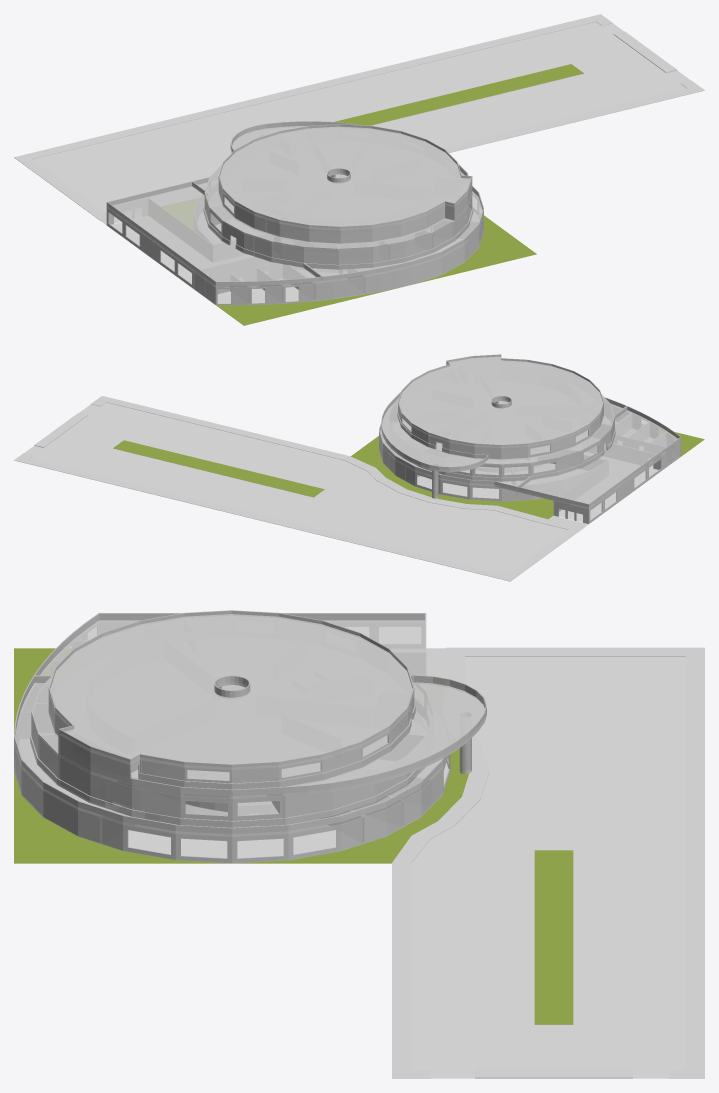
The model's file is MuseumFinal.gltf.
3 views of the same model, one above another, from view 1: azimuth 30°, elevation 25°; view 2: azimuth 150°, elevation 25°; view 3: azimuth 270°, elevation 25° (orthographic). The views are drawn at different scales.
Parts seen in each view (by area): view 1: Node1128, Node619, Node612, Node197, Node1163, Node1118, Node1161, Node795, Node1625, Node1120, Node1555, Node432 (+15 smaller); view 2: Node1128, Node619, Node612, Node1163, Node197, Node1118, Node1162, Node1027, Node1625, Node795, Node196, Node1195 (+13 smaller); view 3: Node1128, Node619, Node612, Node1163, Node1118, Node1027, Node1161, Node1162, Node197, Node1336, Node852, Node432 (+30 smaller).
Part boxes in pixels (x1,y1,x2,y2): Node1128: (32, 22, 691, 212); Node619: (220, 126, 470, 226); Node612: (221, 128, 460, 229); Node197: (112, 186, 315, 281); Node1163: (14, 14, 704, 220); Node1118: (334, 64, 583, 125); Node1161: (413, 213, 536, 284); Node795: (206, 168, 453, 248); Node1625: (111, 216, 251, 283); Node1120: (216, 287, 402, 325); Node1555: (149, 200, 212, 261); Node432: (198, 180, 482, 276); Node1128: (25, 402, 567, 574); Node619: (399, 356, 602, 444); Node612: (400, 362, 601, 447); Node1163: (14, 396, 582, 581); Node197: (522, 410, 677, 503); Node1118: (113, 440, 324, 496); Node1162: (351, 434, 553, 519); Node1027: (382, 398, 483, 466); Node1625: (463, 452, 658, 522); Node795: (485, 396, 613, 463); Node196: (446, 456, 555, 474); Node1195: (417, 473, 510, 498); Node1128: (411, 656, 685, 1078); Node619: (50, 614, 412, 764); Node612: (51, 616, 411, 768); Node1163: (392, 647, 704, 1078); Node1118: (534, 850, 573, 1024); Node1027: (287, 682, 484, 786); Node1161: (14, 772, 231, 863); Node1162: (233, 748, 468, 863); Node197: (40, 620, 424, 675); Node1336: (128, 825, 336, 858); Node852: (420, 685, 486, 744); Node432: (15, 683, 441, 824).
Bounding box in the file's own units: 5040 × 480 × 3419.
